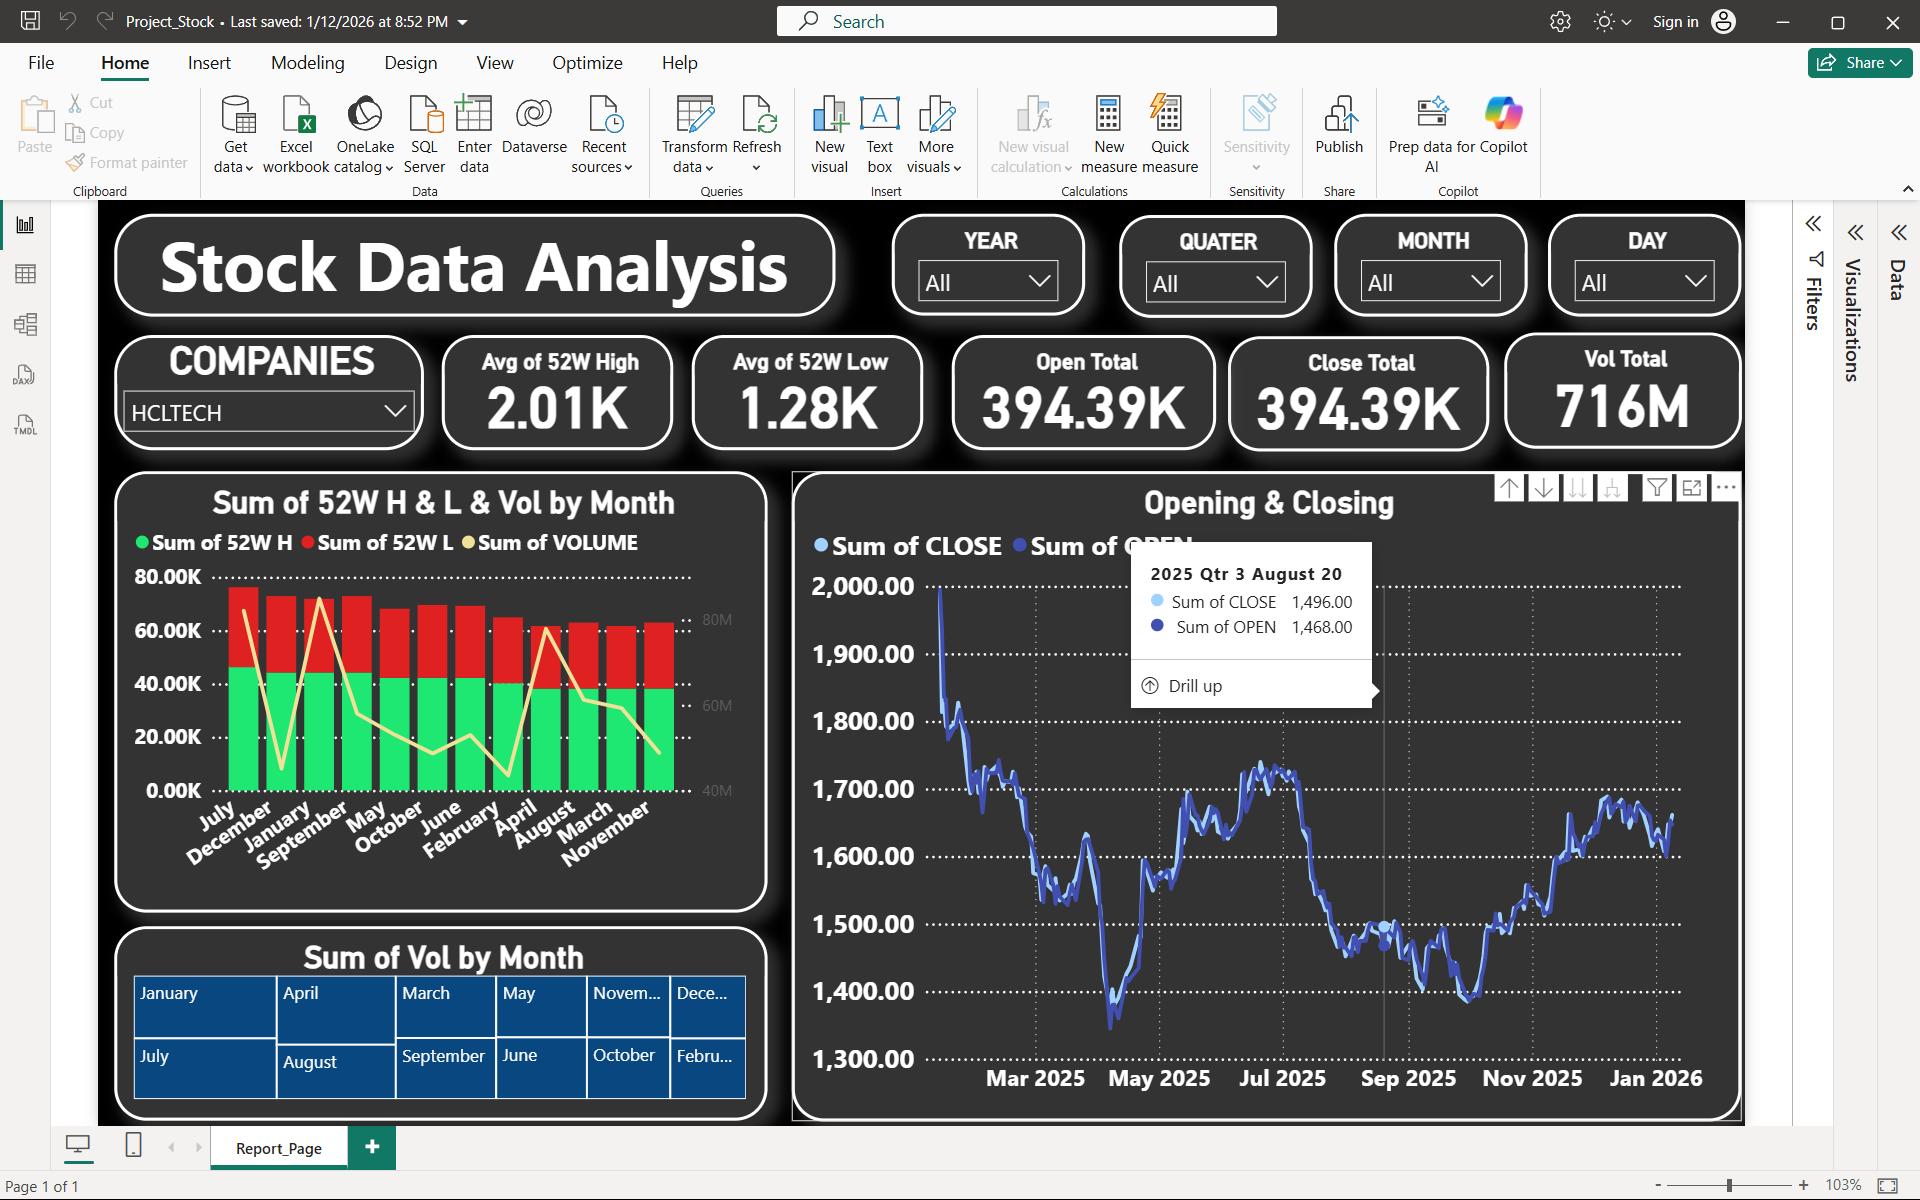

The page's visual inventory and layout, read from the dashboard file:
{"tool":"powerbi","page":{"name":"Report_Page","canvas":[1280,720],"ordinal":0},"visuals":[{"type":"slicer","title":"DAY","fields":{"Values":["Sheet1.DAY"]},"box":[1127.9,10.5,150,80.2],"z":0},{"type":"slicer","title":"MONTH","fields":{"Values":["Sheet1.MONTH"]},"box":[961.6,10.5,150,80.2],"z":1000},{"type":"slicer","title":"QUATER","fields":{"Values":["Sheet1.QUARTER"]},"box":[794.2,11.6,150,80.2],"z":2000},{"type":"slicer","title":"YEAR","fields":{"Values":["Sheet1.YEAR"]},"box":[617.4,10.5,150,79.1],"z":3000},{"type":"textbox","box":[12.8,10.5,560.5,80],"z":4000},{"type":"slicer","title":"COMPANIES","fields":{"Values":["Sheet1.Company"]},"box":[12.8,104.7,240.7,89.5],"z":5000},{"type":"card","title":"Avg of 52W High","fields":{"Values":["Avg(Sheet1.52W H)"]},"box":[267.4,104.7,180.2,89.5],"z":6000},{"type":"card","title":"Avg of 52W Low","fields":{"Values":["Avg(Sheet1.52W L)"]},"box":[461.6,104.7,180.2,89.5],"z":7000},{"type":"card","title":"Close Total","fields":{"Values":["Sum(Sheet1.CLOSE)"]},"box":[879.1,105.8,203.5,89.5],"z":8000},{"type":"card","title":"Open Total","fields":{"Values":["Sum(Sheet1.CLOSE)"]},"box":[664,104.7,205.8,89.5],"z":9000},{"type":"card","title":"Vol Total","fields":{"Values":["Sum(Sheet1.VOLUME)"]},"box":[1093,103.5,184.9,90.7],"z":10000},{"type":"lineStackedColumnComboChart","title":"Sum of 52W H & L & Vol by Month","fields":{"Y":["Sum(Sheet1.52W H)","Sum(Sheet1.52W L)"],"Category":["Sheet1.MONTH"],"Y2":["Sum(Sheet1.VOLUME)"]},"box":[12.8,210.5,508.1,343],"z":11000},{"type":"lineChart","title":"Opening & Closing","fields":{"Y":["Sum(Sheet1.CLOSE)","Sum(Sheet1.OPEN)"],"Category":["Sheet1.DATE.Variation.Date Hierarchy.Year","Sheet1.DATE.Variation.Date Hierarchy.Quarter","Sheet1.DATE.Variation.Date Hierarchy.Month","Sheet1.DATE.Variation.Date Hierarchy.Day"]},"box":[539.5,210.5,738.4,505.8],"z":12000},{"type":"treemap","title":"Sum of Vol by Month","fields":{"Group":["Sheet1.MONTH"],"Values":["Sum(Sheet1.VOLUME)"]},"box":[12.8,565.1,508.1,151.2],"z":13000}]}

Visuals, with their boxes on the page's 1280x720 design canvas (x1, y1, x2, y2). These are canvas units, not pixel positions in the 1920x1200 screenshot, which may show the page scaled, cropped or inside an application window:
"DAY" slicer: region(1128, 10, 1278, 91)
"MONTH" slicer: region(962, 10, 1112, 91)
"QUATER" slicer: region(794, 12, 944, 92)
"YEAR" slicer: region(617, 10, 767, 90)
textbox: region(13, 10, 573, 90)
"COMPANIES" slicer: region(13, 105, 254, 194)
"Avg of 52W High" card: region(267, 105, 448, 194)
"Avg of 52W Low" card: region(462, 105, 642, 194)
"Close Total" card: region(879, 106, 1083, 195)
"Open Total" card: region(664, 105, 870, 194)
"Vol Total" card: region(1093, 104, 1278, 194)
"Sum of 52W H & L & Vol by Month" lineStackedColumnComboChart: region(13, 210, 521, 554)
"Opening & Closing" lineChart: region(540, 210, 1278, 716)
"Sum of Vol by Month" treemap: region(13, 565, 521, 716)
